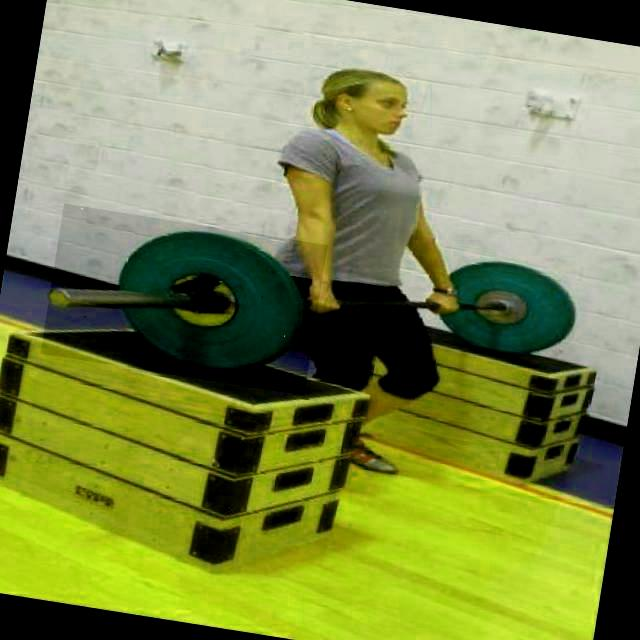barbell: (40, 205, 329, 397)
